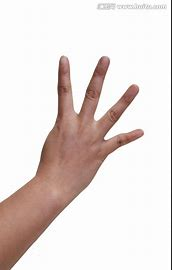right: (31, 55, 144, 191)
